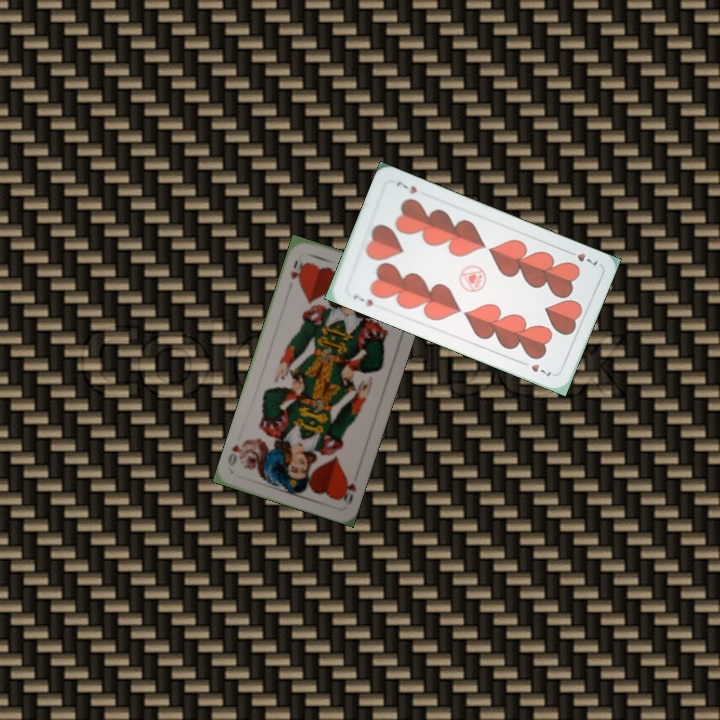H7: (563, 246, 601, 269), (349, 290, 376, 309)
HO: (337, 474, 359, 508), (285, 256, 307, 285)
